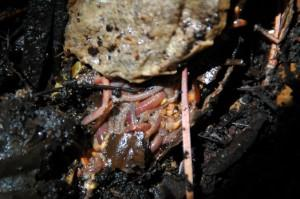earthworms: (58, 59, 226, 173)
